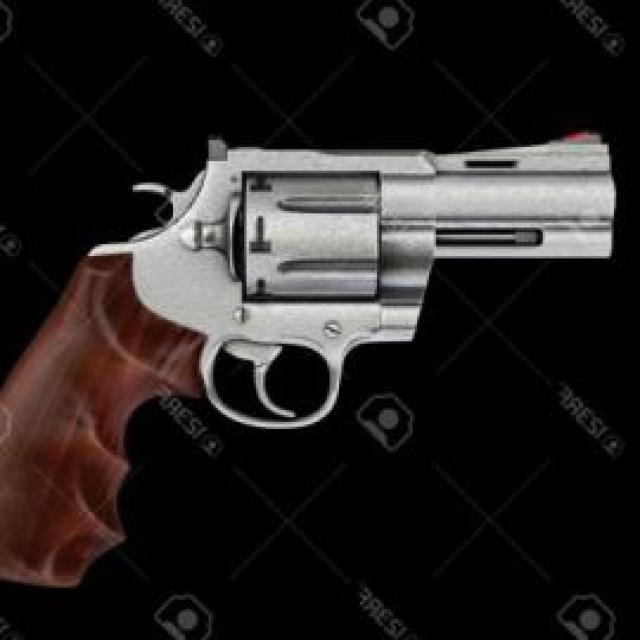pistol: (0, 121, 614, 595)
